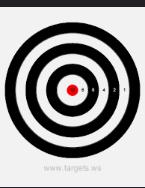bulls eye: (4, 21, 140, 161)
